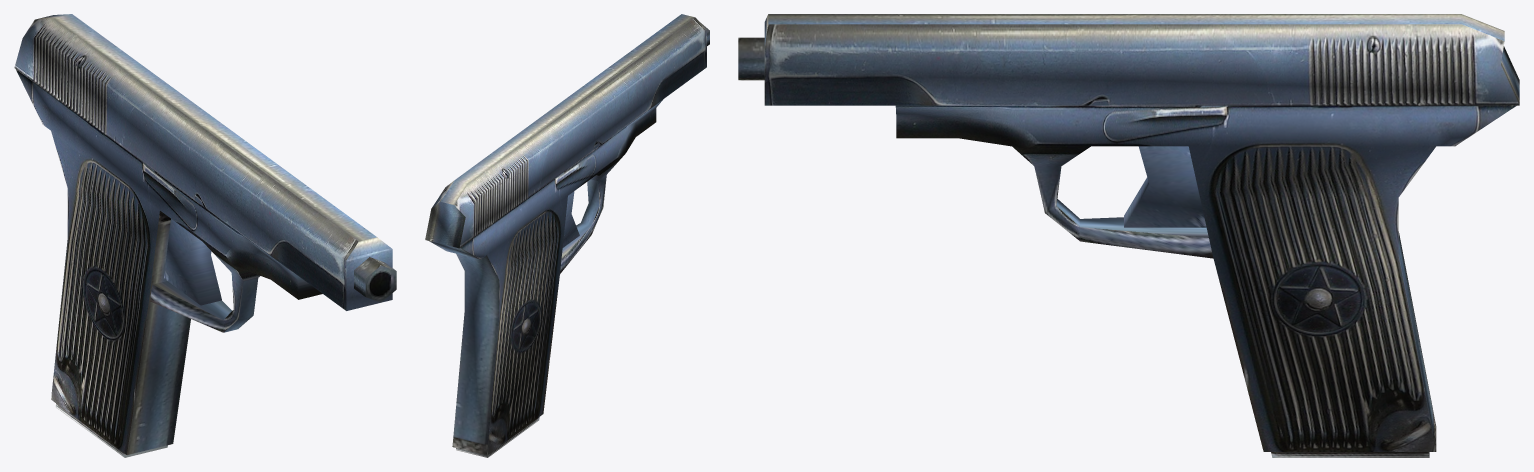
The model's file is low_poly_pistol.glb.
3 renders of one model, left to right at view 1: azimuth 30°, elevation 25°; view 2: azimuth 150°, elevation 25°; view 3: azimuth 270°, elevation 25°, orthographic. The views are drawn at different scales.
Parts seen in each view (by area): view 1: Cube.003, Cube, Cube.002; view 2: Cube.003, Cube, Cube.002; view 3: Cube.003, Cube, Cube.002.
Boxes of the visible parts, x1,y1,x2,y2 form: Cube.003: (16,69,396,454); Cube: (14,14,392,310); Cube.002: (55,403,167,457); Cube.003: (429,23,709,455); Cube: (425,14,706,248); Cube.002: (456,417,539,457); Cube.003: (738,37,1516,451); Cube: (764,14,1519,105); Cube.002: (1271,452,1429,457).
Size of the model in its own units: 0.2662 by 2.07 by 3.43.
Materials: 1 (1 with a texture image).
